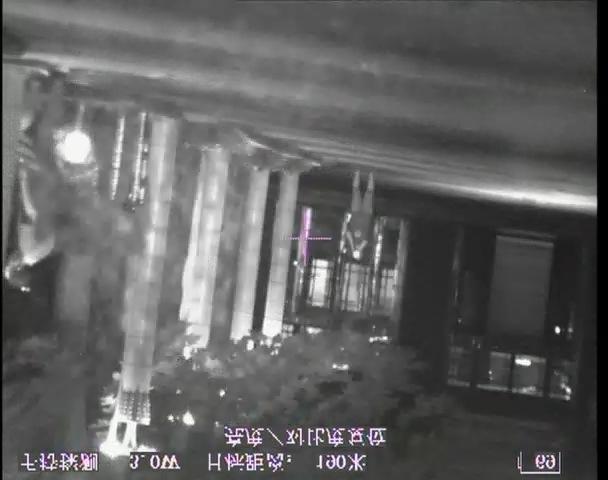my: (351, 248, 360, 259)
